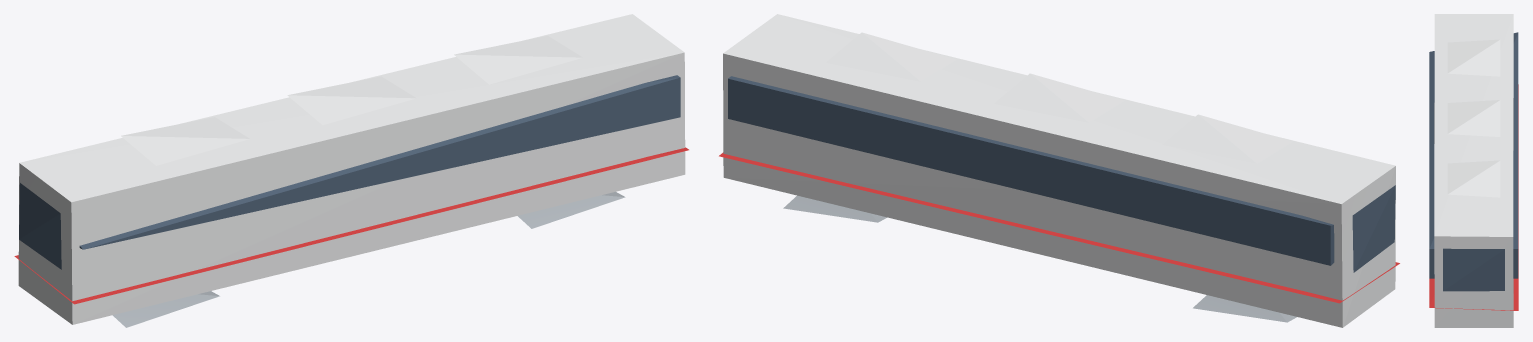
The model's file is metro_car_lod1.glb.
3 renders of one model, left to right at view 1: azimuth 30°, elevation 25°; view 2: azimuth 150°, elevation 25°; view 3: azimuth 270°, elevation 25°, orthographic. The views are drawn at different scales.
Visible parts, largest first — view 1: metro_car_lod1; view 2: metro_car_lod1; view 3: metro_car_lod1.
Part boxes in pixels (x1,y1,x2,y2): metro_car_lod1: (14,14,688,327); metro_car_lod1: (719,14,1399,327); metro_car_lod1: (1429,14,1518,327).
Size of the model in its own units: 17.25 by 4.03 by 2.88.
